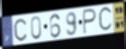0: (30, 16, 42, 41)
6: (49, 12, 62, 39)
9: (65, 11, 78, 37)
C: (98, 5, 113, 34), (13, 17, 28, 42)
P: (82, 8, 97, 36)
